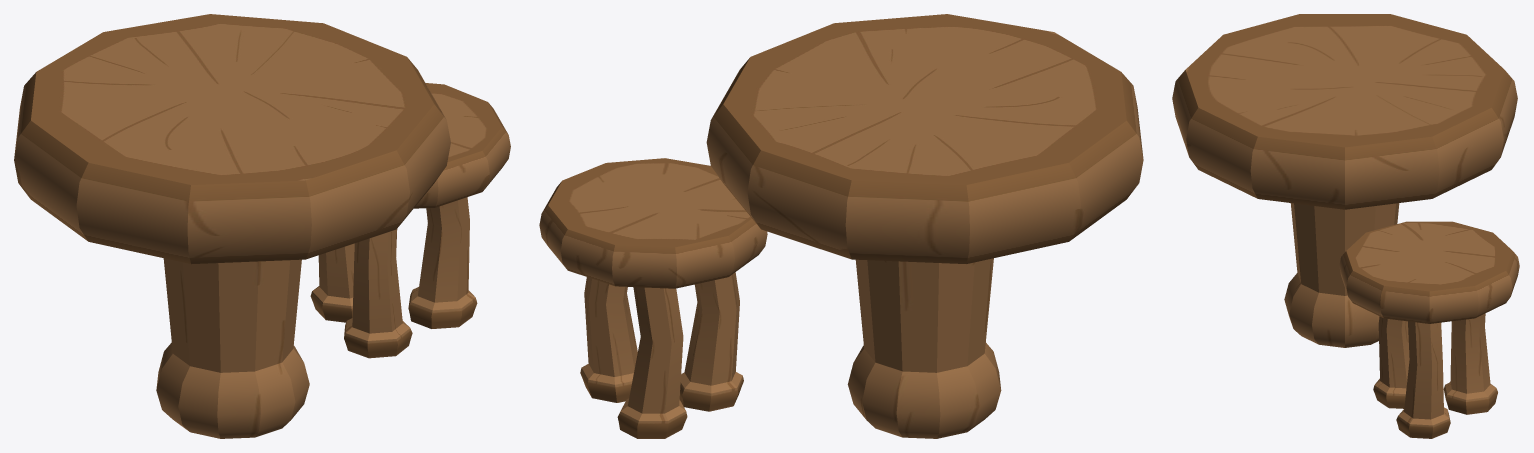
The model's file is TableAndChairsYas.fbx.
The picture shows the model from 3 angles, left to right: view 1: azimuth 30°, elevation 25°; view 2: azimuth 150°, elevation 25°; view 3: azimuth 270°, elevation 25°; orthographic projection. The views are drawn at different scales.
Visible parts, largest first — view 1: pCylinder5, pCylinder1, pCylinder7, pCylinder3, pCylinder6; view 2: pCylinder5, pCylinder1, pCylinder6, pCylinder3, pCylinder7; view 3: pCylinder5, pCylinder1, pCylinder7, pCylinder6, pCylinder3.
Boxes of the visible parts, x1,y1,x2,y2 form: pCylinder5: [14, 14, 450, 438]; pCylinder1: [414, 83, 510, 208]; pCylinder7: [408, 197, 477, 328]; pCylinder3: [344, 229, 412, 358]; pCylinder6: [310, 243, 354, 322]; pCylinder5: [706, 14, 1143, 438]; pCylinder1: [539, 158, 767, 288]; pCylinder6: [617, 287, 687, 438]; pCylinder3: [679, 272, 743, 411]; pCylinder7: [580, 277, 637, 402]; pCylinder5: [1172, 14, 1517, 347]; pCylinder1: [1339, 221, 1519, 323]; pCylinder7: [1396, 321, 1450, 438]; pCylinder6: [1443, 313, 1497, 414]; pCylinder3: [1373, 316, 1409, 408].
Size of the model in its own units: 12.39 by 7.43 by 9.39.
